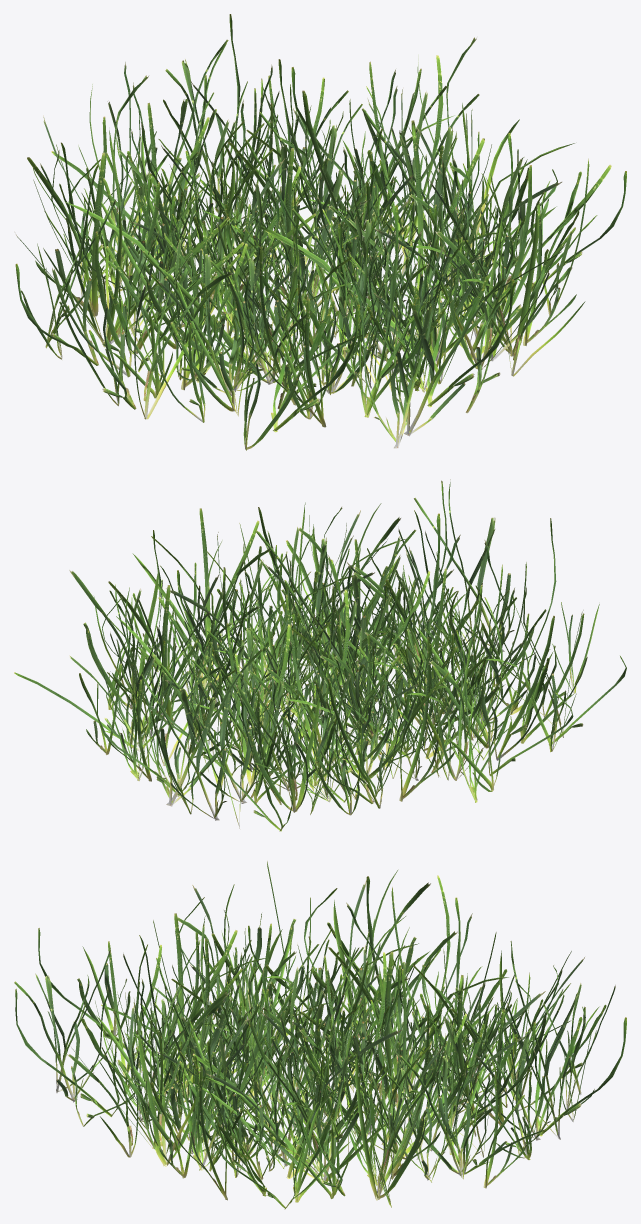
File: Grass_Patch_Green_Low.obj
The picture shows the model from 3 angles, top to bottom: view 1: azimuth 30°, elevation 25°; view 2: azimuth 150°, elevation 25°; view 3: azimuth 270°, elevation 25°; orthographic projection. The views are drawn at different scales.
Visible parts, largest first — view 1: grass_patch_green_Grass_Green; view 2: grass_patch_green_Grass_Green; view 3: grass_patch_green_Grass_Green.
Part boxes in pixels (box(x1,y1,x2,y2)): grass_patch_green_Grass_Green: box(15, 14, 626, 450); grass_patch_green_Grass_Green: box(14, 479, 626, 831); grass_patch_green_Grass_Green: box(14, 861, 626, 1209).
Size of the model in its own units: 0.2387 by 0.0798 by 0.2588.
